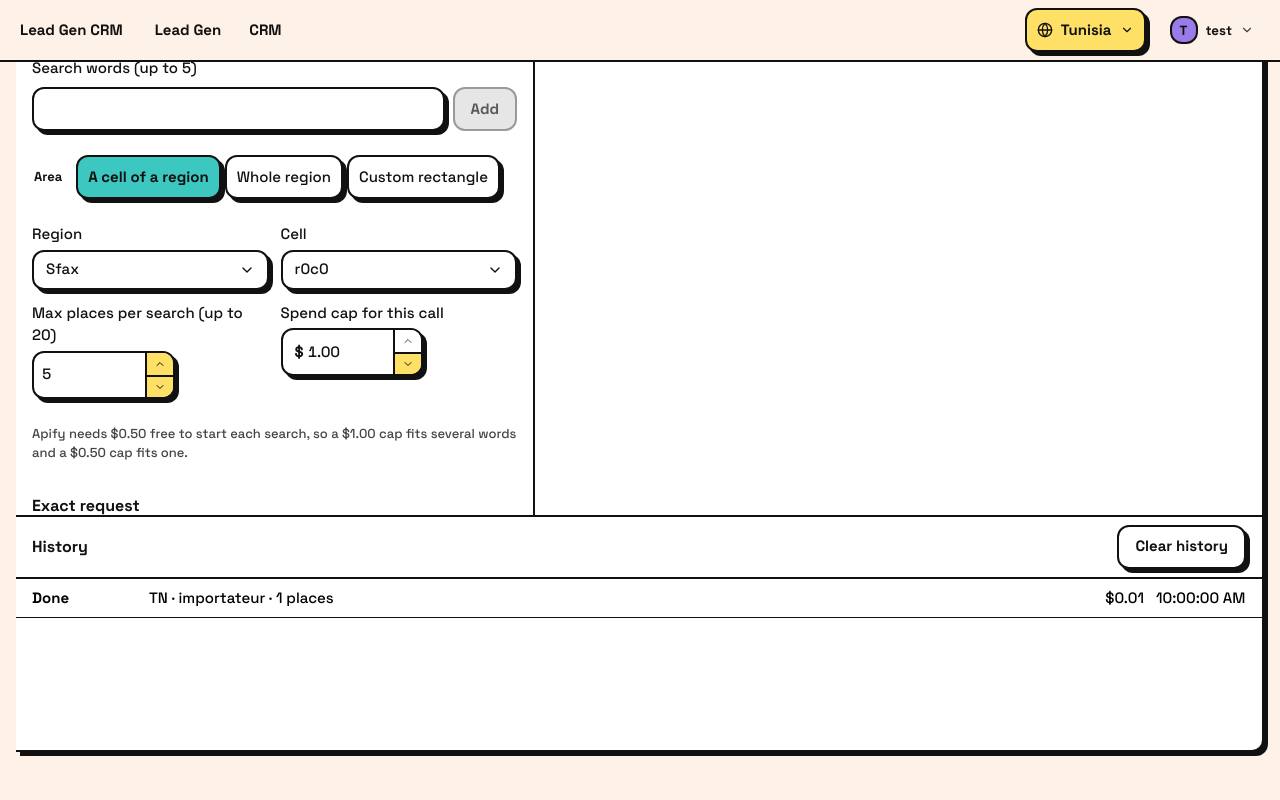
Dev console page › carries the places of a result into the Classify tab
(page scrolled)
Click the button "Done TN · importateur · 1 places $0.01 10:00:00 AM".
click(51, 597)  # box [16, 579, 1262, 618]
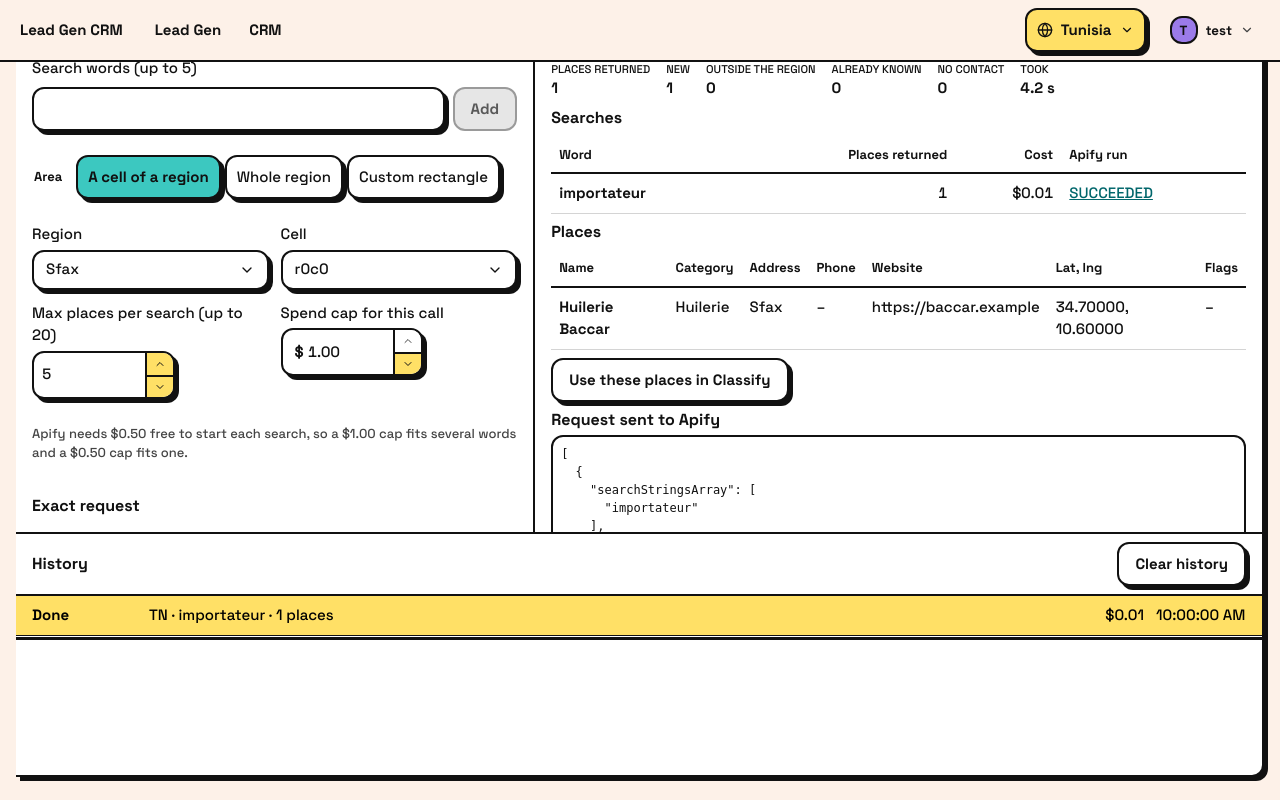
Click the button "Use these places in Classify".
click(670, 380)  # box [551, 358, 789, 402]
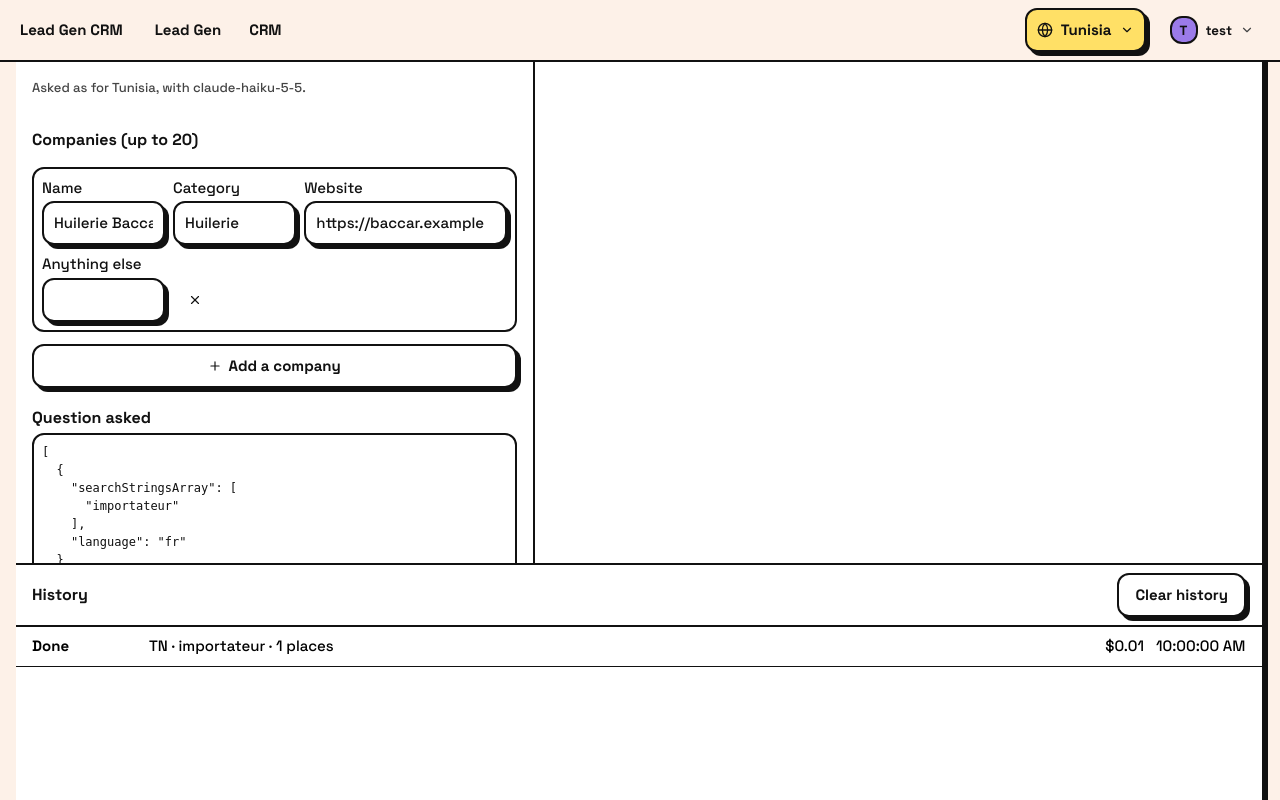
Expected: the field showing "Huilerie Baccar" is shown, [42, 201, 165, 245]
Expected: the field showing "https://baccar.example" is shown, [304, 201, 507, 245]
